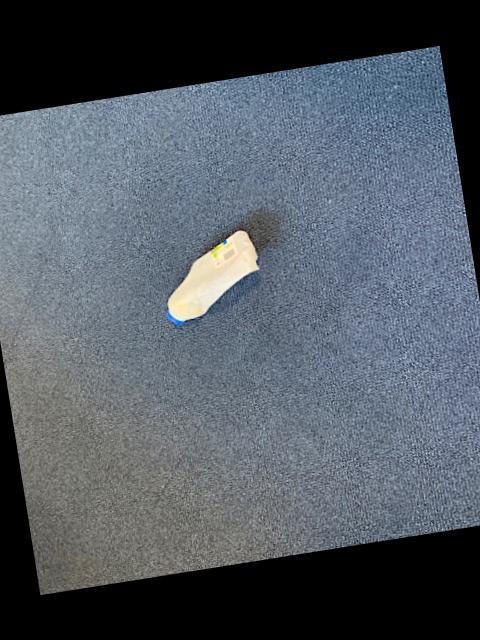plastic: (165, 229, 255, 321)
